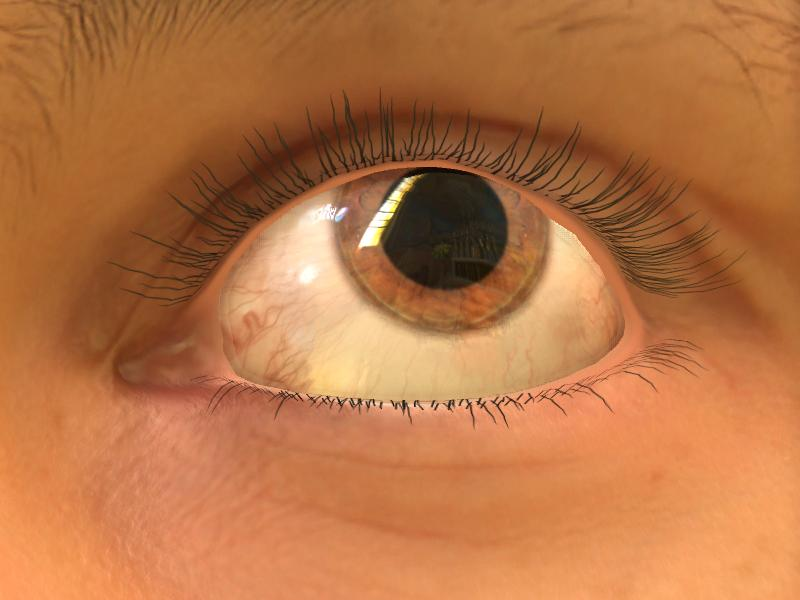eye: (332, 163, 555, 335)
